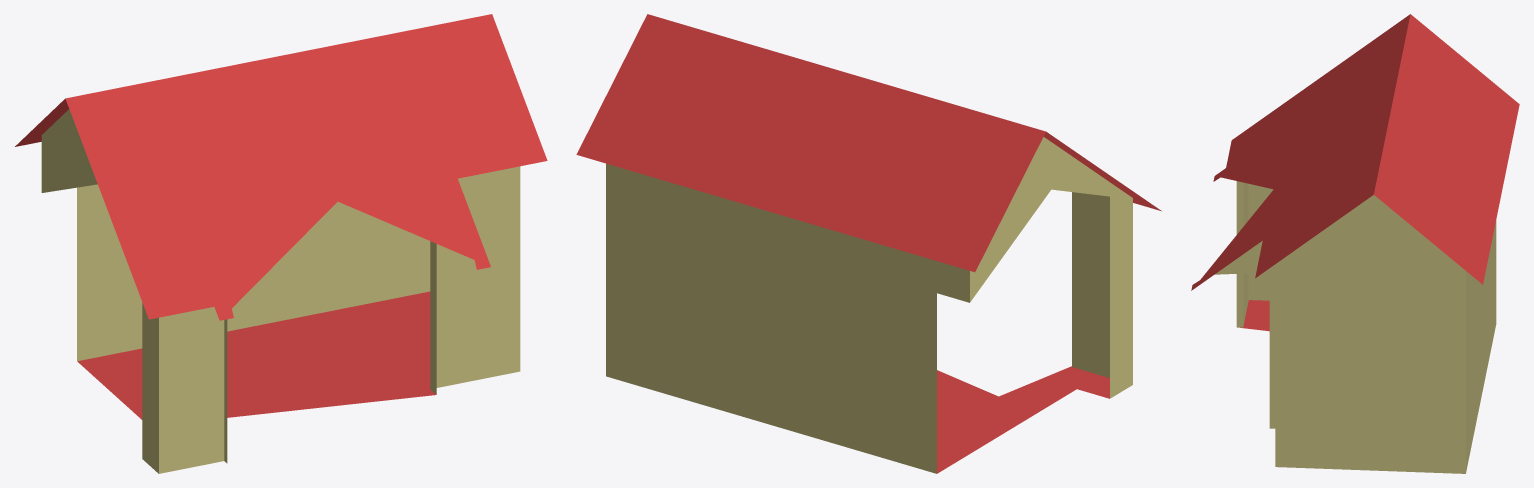
3 views of the same model, side by side, from view 1: azimuth 30°, elevation 25°; view 2: azimuth 150°, elevation 25°; view 3: azimuth 270°, elevation 25° (orthographic). The views are drawn at different scales.
Size of the model in its own units: 24.05 by 17.46 by 16.65.
